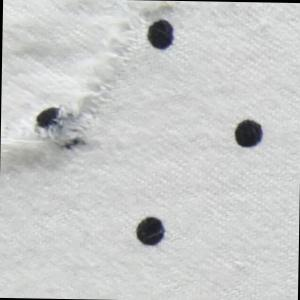Damage: (29, 1, 184, 171)
